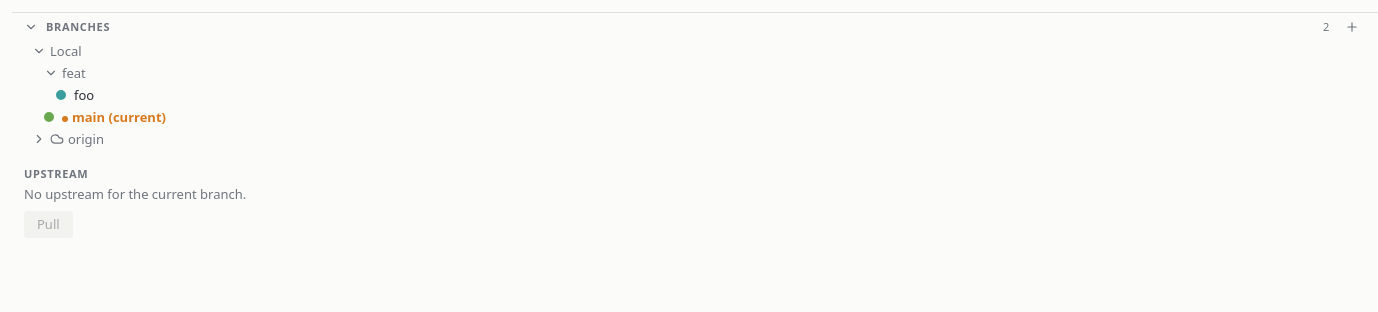
Test: BranchTree — remotes › lists remote folders and lazily loads their branches on first expand
Click the button "origin": (86, 139) [24,128,1340,150]
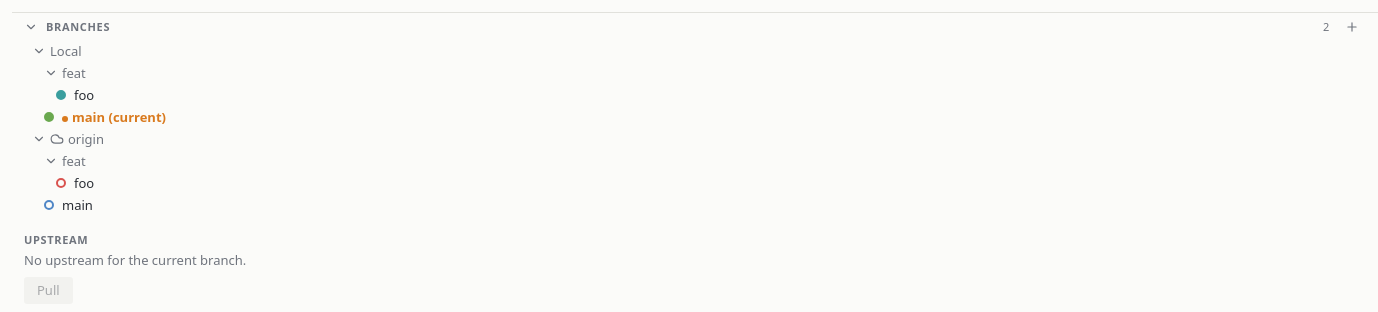
Now the 2nd text "foo" is shown, box [74,174,94,192]
